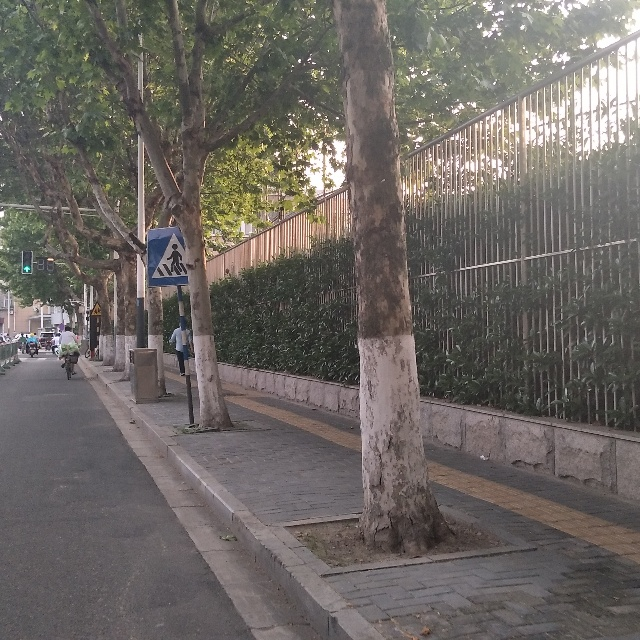crosswalk: (151, 233, 203, 283)
